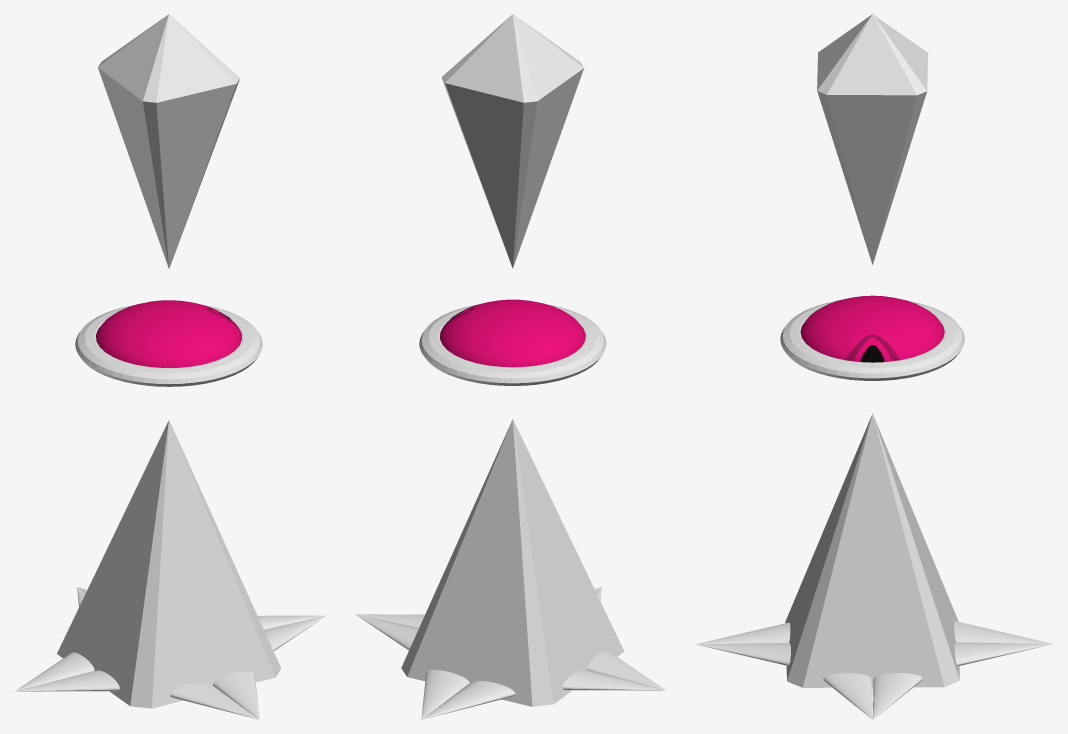
The model's file is TowerSnipper.fbx.
3 views of the same model, side by side, from view 1: azimuth 30°, elevation 25°; view 2: azimuth 150°, elevation 25°; view 3: azimuth 270°, elevation 25° (orthographic).
Parts seen in each view (by area): view 1: Cone, Cone.001, Sphere, Torus, Cone.009, Cone.007, Cone.008, Cone.006, Cone.002, Cone.003; view 2: Cone, Cone.001, Sphere, Torus, Cone.004, Cone.005, Cone.006, Cone.007, Cone.003, Cone.002; view 3: Cone, Cone.001, Sphere, Torus, Cone.003, Cone.002, Cone.005, Cone.008, Cone.004, Cone.009.
Part boxes in pixels (x1,y1,x2,y2): Cone: (57, 420, 281, 708); Cone.001: (98, 14, 240, 268); Sphere: (96, 300, 241, 367); Torus: (75, 305, 262, 386); Cone.009: (170, 682, 258, 719); Cone.007: (15, 670, 119, 691); Cone.008: (213, 671, 259, 719); Cone.006: (15, 652, 94, 691); Cone.002: (264, 616, 325, 650); Cone.003: (258, 615, 325, 629); Cone: (401, 419, 624, 706); Cone.001: (441, 14, 583, 268); Sphere: (440, 299, 585, 367); Torus: (419, 304, 606, 385); Cone.004: (422, 681, 515, 719); Cone.005: (421, 670, 469, 719); Cone.006: (562, 669, 665, 690); Cone.007: (586, 651, 665, 690); Cone.003: (355, 614, 418, 650); Cone.002: (356, 614, 424, 628); Cone: (785, 413, 959, 687); Cone.001: (817, 14, 928, 264); Sphere: (800, 295, 944, 362); Torus: (780, 300, 964, 380); Cone.003: (873, 673, 922, 719); Cone.002: (823, 673, 872, 719); Cone.005: (954, 643, 1052, 666); Cone.008: (696, 643, 790, 665); Cone.004: (954, 621, 1052, 643); Cone.009: (696, 622, 790, 644).
Bounding box in the file's own units: 343 × 695 × 346.
